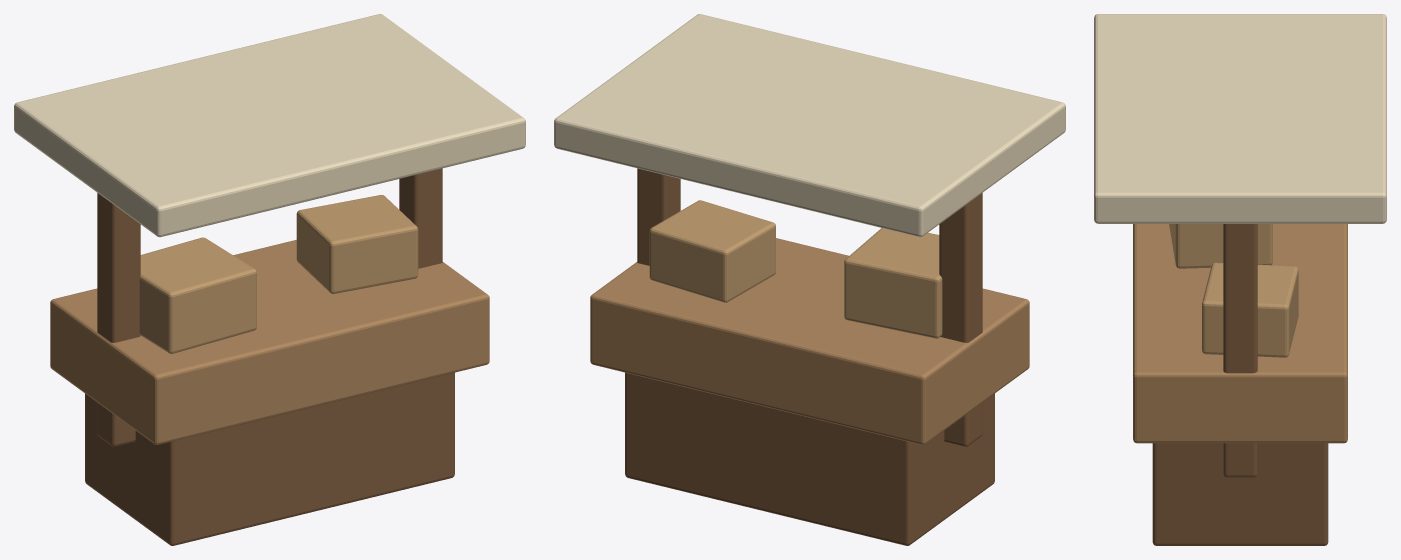
Rendered from woodland-market-stall-01--cream-canopy.fbx.
3 views of the same model, side by side, from view 1: azimuth 30°, elevation 25°; view 2: azimuth 150°, elevation 25°; view 3: azimuth 270°, elevation 25° (orthographic).
Visible parts, largest first — view 1: woodland-market-stall-01--cream-canopy; view 2: woodland-market-stall-01--cream-canopy; view 3: woodland-market-stall-01--cream-canopy.
Part boxes in pixels (x1,y1,x2,y2): woodland-market-stall-01--cream-canopy: [14, 14, 525, 545]; woodland-market-stall-01--cream-canopy: [554, 14, 1065, 545]; woodland-market-stall-01--cream-canopy: [1094, 14, 1386, 545].
Size of the model in its own units: 44 by 42.25 by 30.
